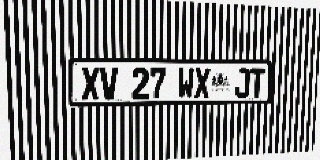2: (132, 67, 149, 99)
7: (149, 68, 166, 99)
J: (234, 68, 250, 98)
T: (250, 68, 265, 98)
V: (100, 67, 118, 100)
W: (178, 68, 194, 99)
X: (81, 67, 100, 100), (194, 68, 210, 98)
